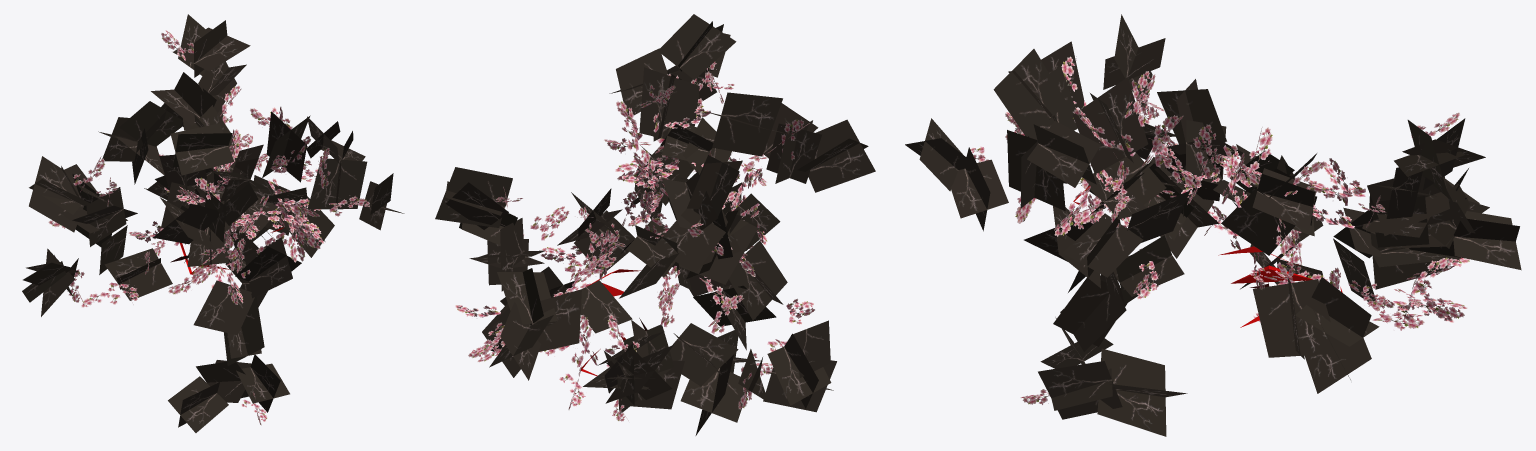
Rendered from sakura1 lod3.FBX.
3 renders of one model, left to right at view 1: azimuth 30°, elevation 25°; view 2: azimuth 150°, elevation 25°; view 3: azimuth 270°, elevation 25°, orthographic. The views are drawn at different scales.
Visible parts, largest first — view 1: sakura1_LOD3; view 2: sakura1_LOD3; view 3: sakura1_LOD3.
Boxes of the visible parts, x1=… form: sakura1_LOD3: x1=22, y1=14, x2=404, y2=432; sakura1_LOD3: x1=435, y1=14, x2=875, y2=435; sakura1_LOD3: x1=905, y1=14, x2=1521, y2=436.
Size of the model in its own units: 87472 by 93914 by 127687.
